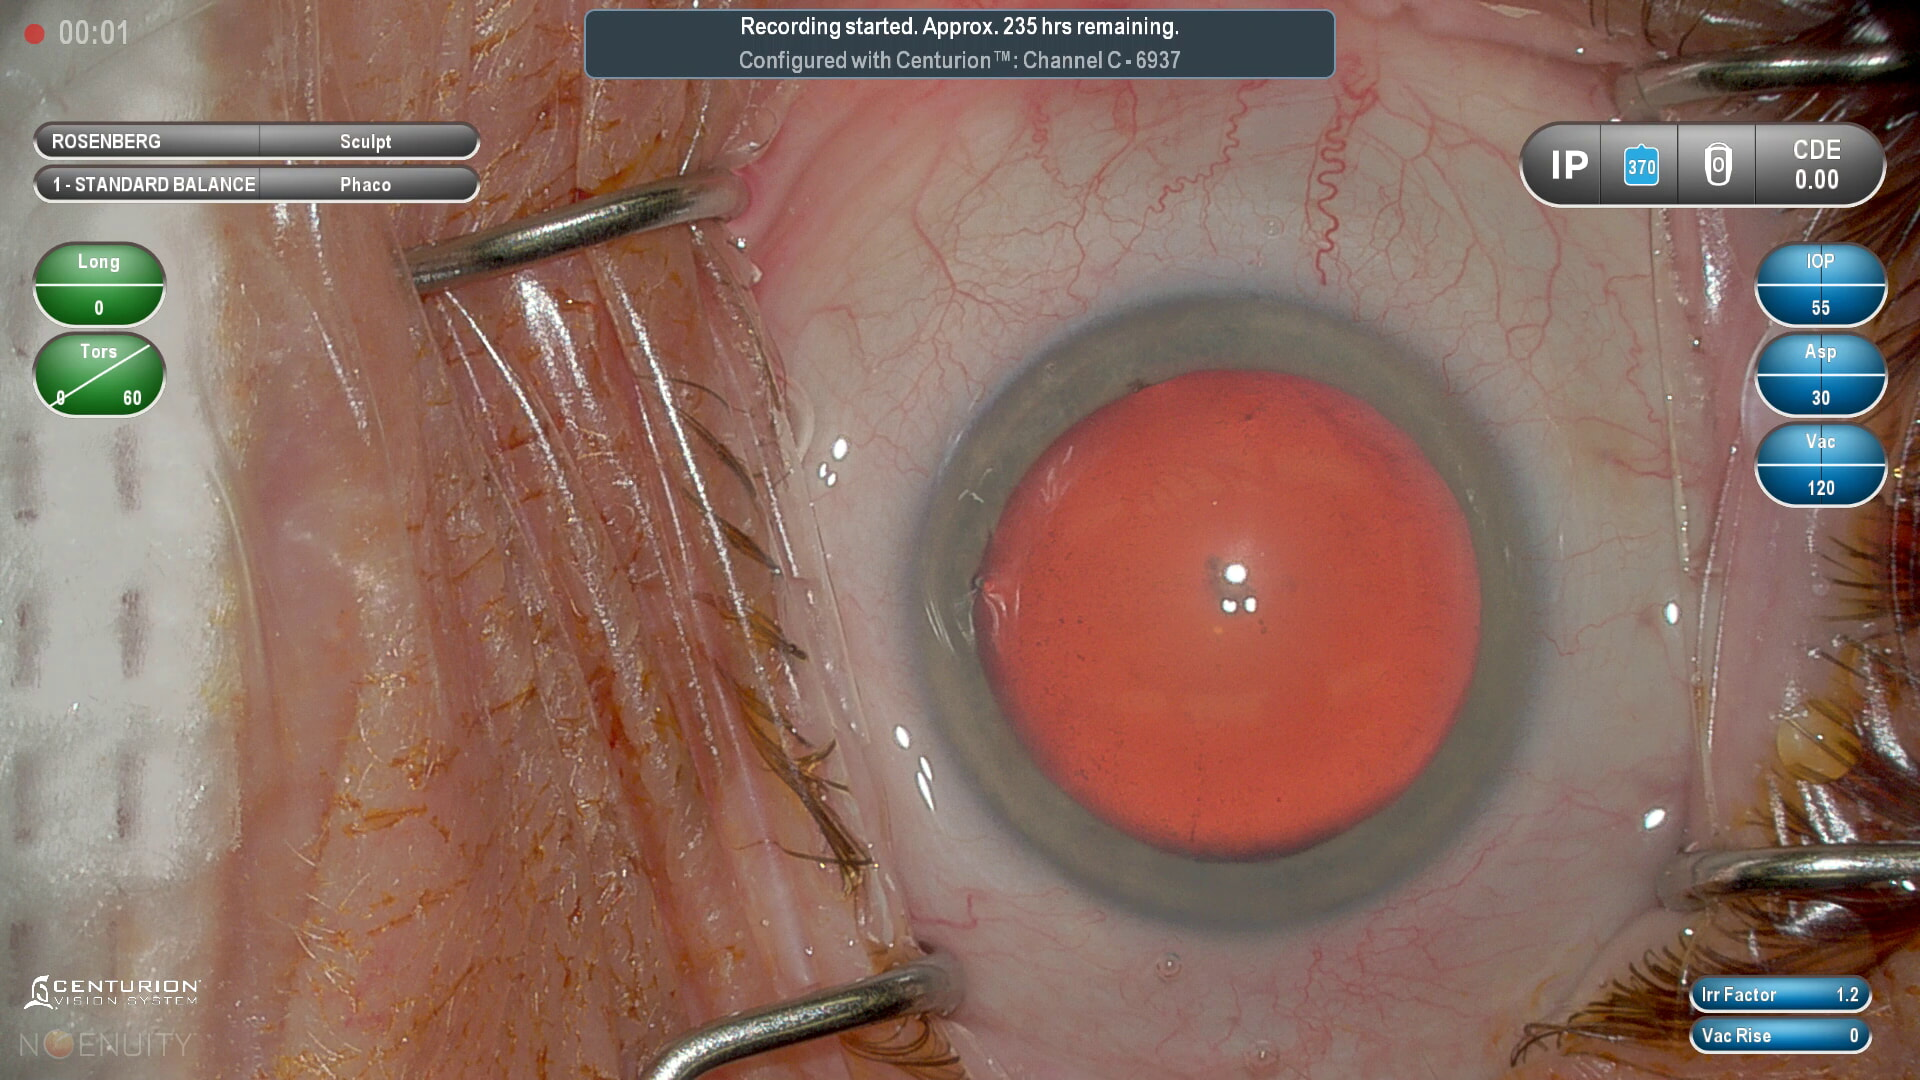iris: (930, 302, 1532, 926)
pupil: (972, 367, 1488, 865)
